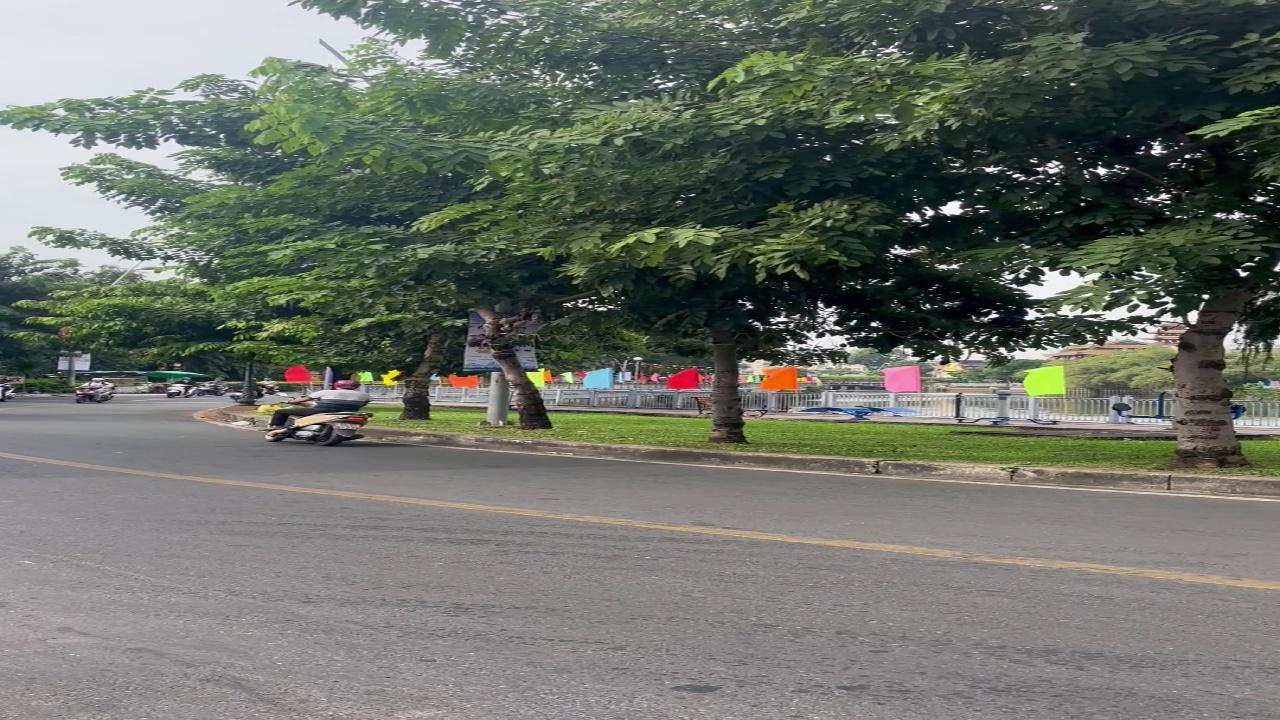Helmet: (331, 377, 363, 391)
Motor: (265, 412, 372, 445), (75, 388, 114, 403), (251, 381, 278, 399), (166, 384, 196, 397), (196, 383, 227, 395), (0, 382, 13, 401)
